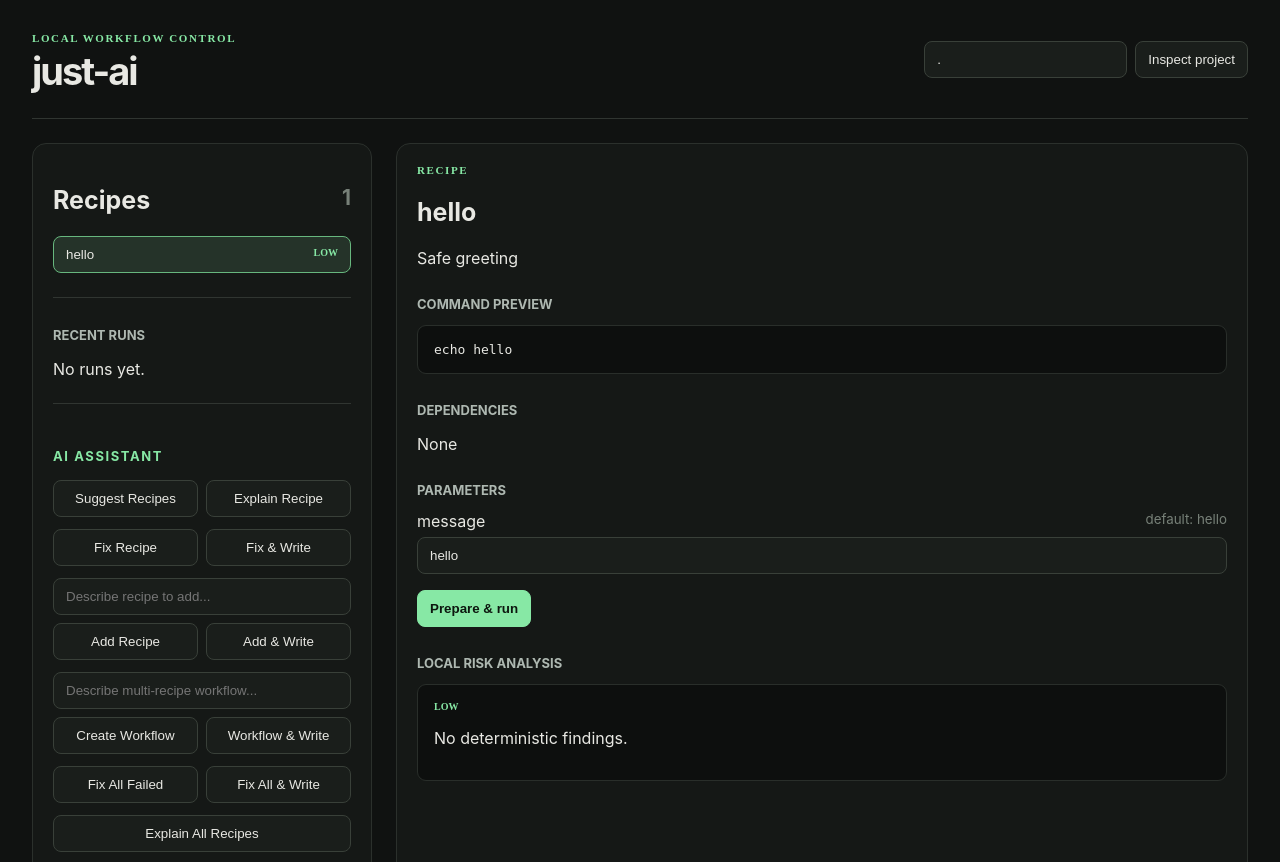
Test: desktop user workflows › clears old recipes when the root changes or inspection fails
expect the button "Prepare & run" is shown: met, box [417, 590, 531, 626]
Replace the text in the field named "Project root" with "/missing/project" at (1026, 60), box [924, 41, 1127, 78]
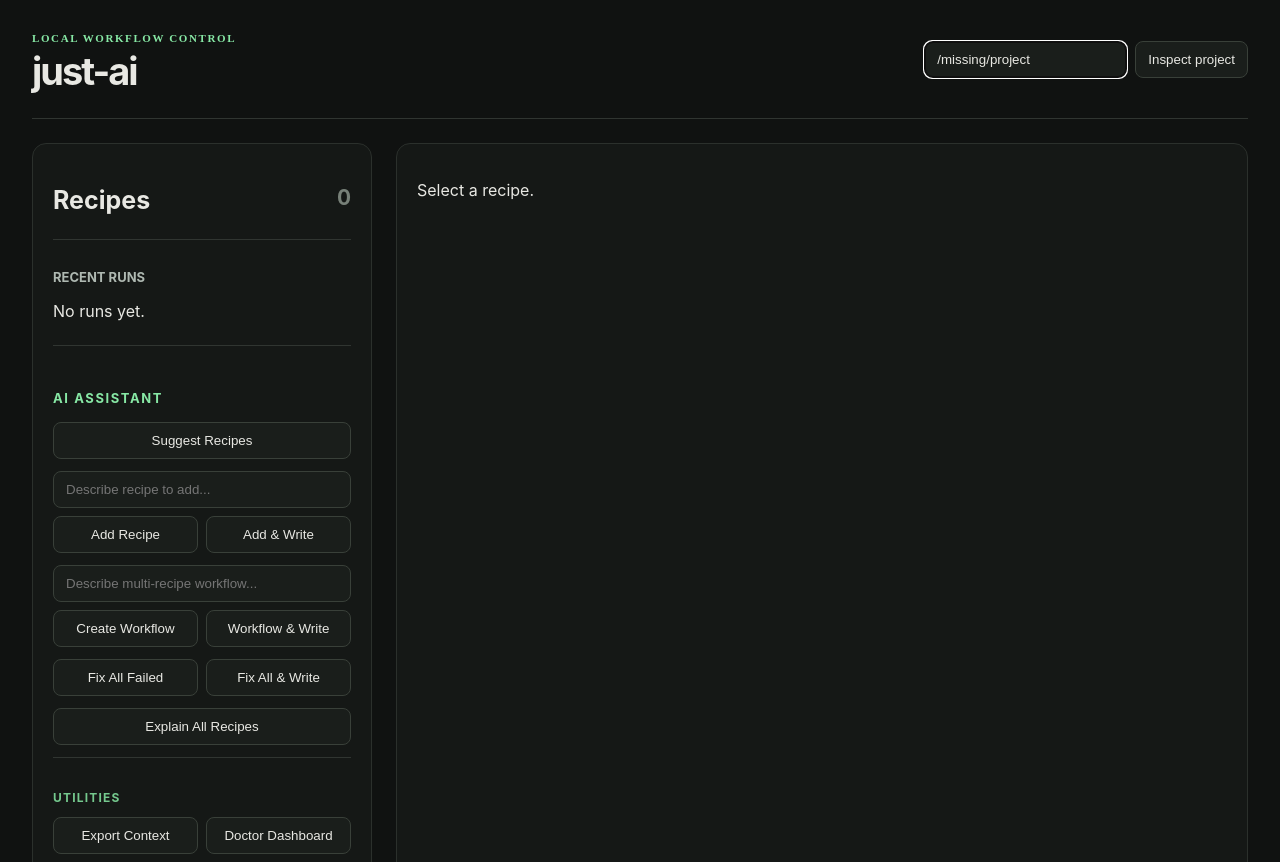
expect the button "Prepare & run" is not shown: met
Click the button "Inspect project" at (1192, 60), box [1135, 41, 1248, 78]
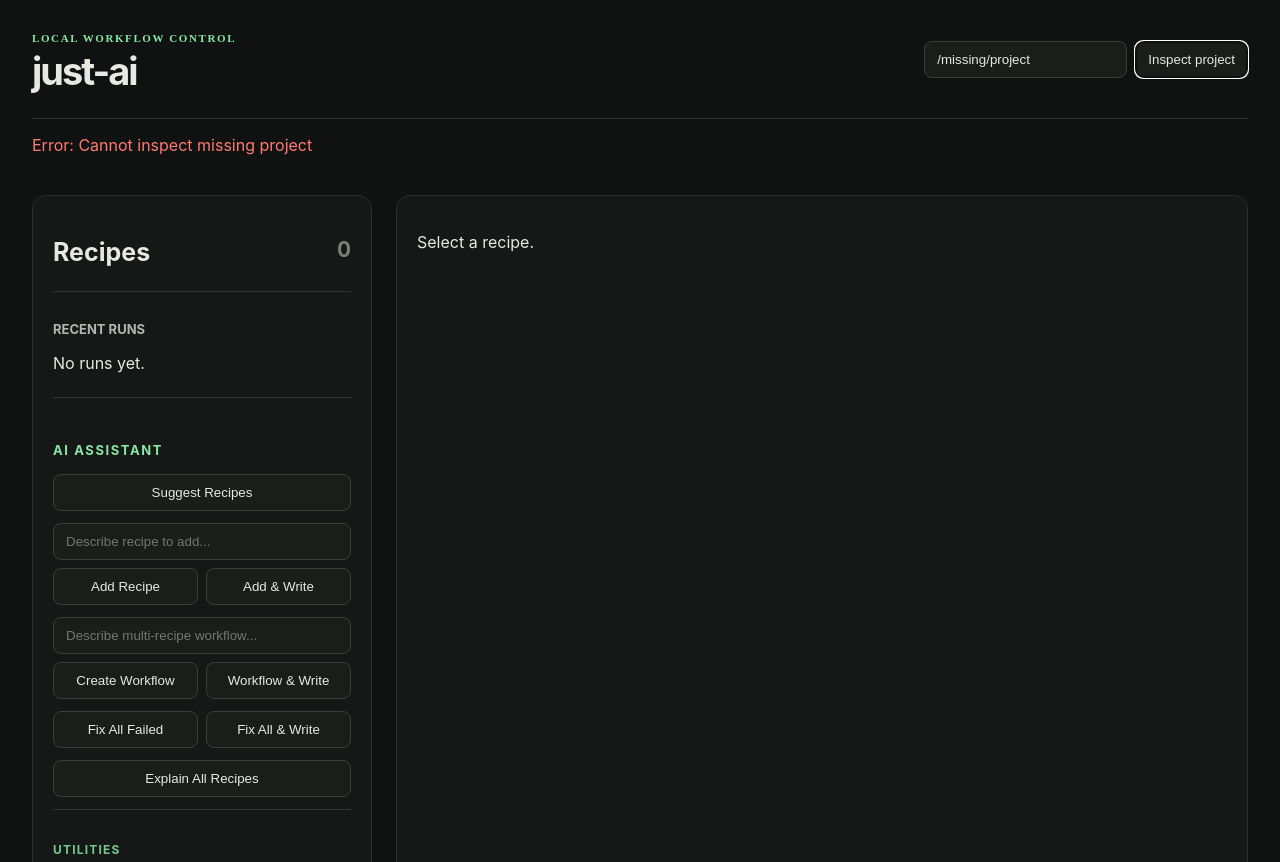
expect the button "Prepare & run" is not shown: met
expect the text "Error: Cannot inspect missing project" is shown: met, box [32, 135, 312, 155]
